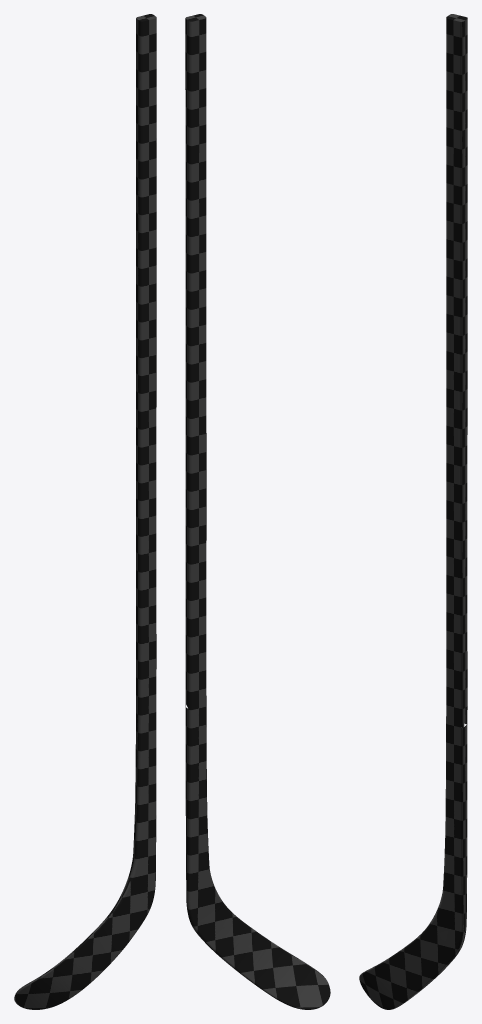
3 renders of one model, left to right at view 1: azimuth 30°, elevation 25°; view 2: azimuth 210°, elevation 25°; view 3: azimuth 330°, elevation 25°, orthographic. The views are drawn at different scales.
Parts seen in each view (by area): view 1: geometry_0; view 2: geometry_0; view 3: geometry_0.
Boxes of the visible parts, x1,y1,x2,y2 form: geometry_0: (14, 14, 156, 1009); geometry_0: (185, 14, 330, 1009); geometry_0: (359, 14, 467, 1009).
Bounding box in the file's own units: 212 × 1650 × 76.43.
Materials: 1 (1 with a texture image).
